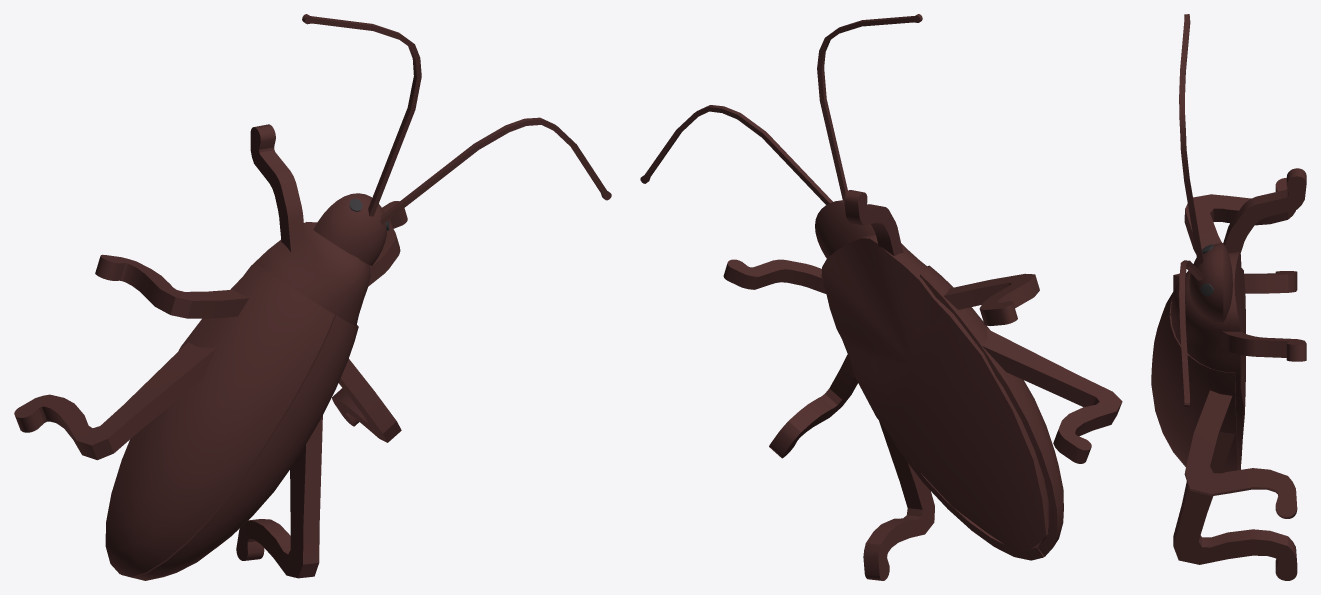
Rendered from Cockroach.gltf.
3 renders of one model, left to right at view 1: azimuth 30°, elevation 25°; view 2: azimuth 150°, elevation 25°; view 3: azimuth 270°, elevation 25°, orthographic. The views are drawn at different scales.
Visible parts, largest first — view 1: Sphere.387, Cube.152, Cube.150, Cube.151, Cube.153; view 2: Cube.150, Cube.152, Sphere.387, Cube.151, Cube.153; view 3: Cube.152, Sphere.387, Cube.150, Cube.151, Cube.153.
Part boxes in pixels (bbox=[...]): Sphere.387: bbox=[105, 263, 358, 580]; Cube.152: bbox=[14, 124, 407, 578]; Cube.150: bbox=[178, 222, 370, 350]; Cube.151: bbox=[302, 14, 611, 224]; Cube.153: bbox=[313, 193, 386, 265]; Cube.150: bbox=[821, 235, 1049, 552]; Cube.152: bbox=[723, 190, 1122, 580]; Sphere.387: bbox=[842, 265, 1063, 560]; Cube.151: bbox=[640, 14, 922, 204]; Cube.153: bbox=[815, 200, 875, 258]; Cube.152: bbox=[1173, 168, 1306, 580]; Sphere.387: bbox=[1151, 291, 1237, 473]; Cube.150: bbox=[1171, 251, 1245, 470]; Cube.151: bbox=[1179, 14, 1203, 407]; Cube.153: bbox=[1189, 243, 1232, 322].
Bounding box in the file's own units: 1.88 × 1.92 × 0.4768.
